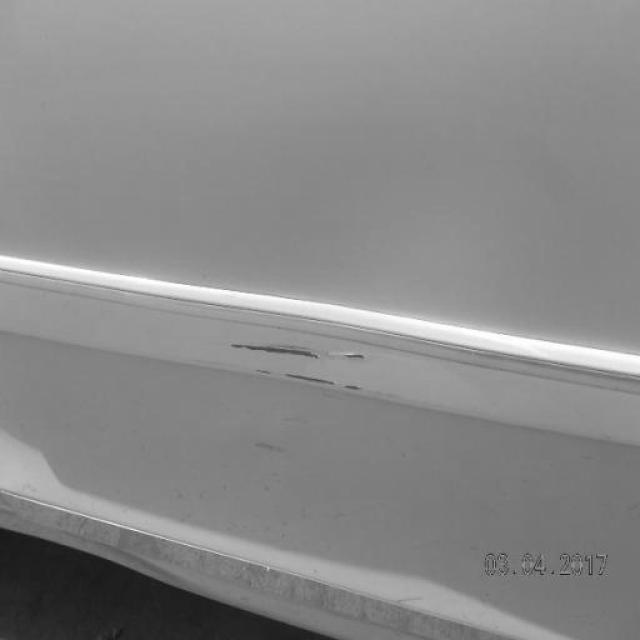scratch: (226, 325, 367, 398)
